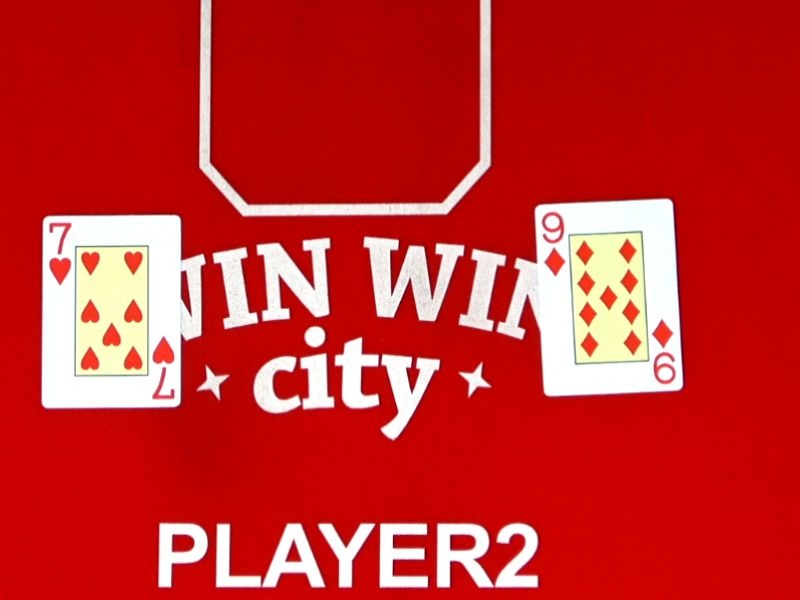7H: (127, 332, 203, 403), (21, 219, 98, 289)
9D: (515, 211, 591, 279), (628, 319, 703, 385)
